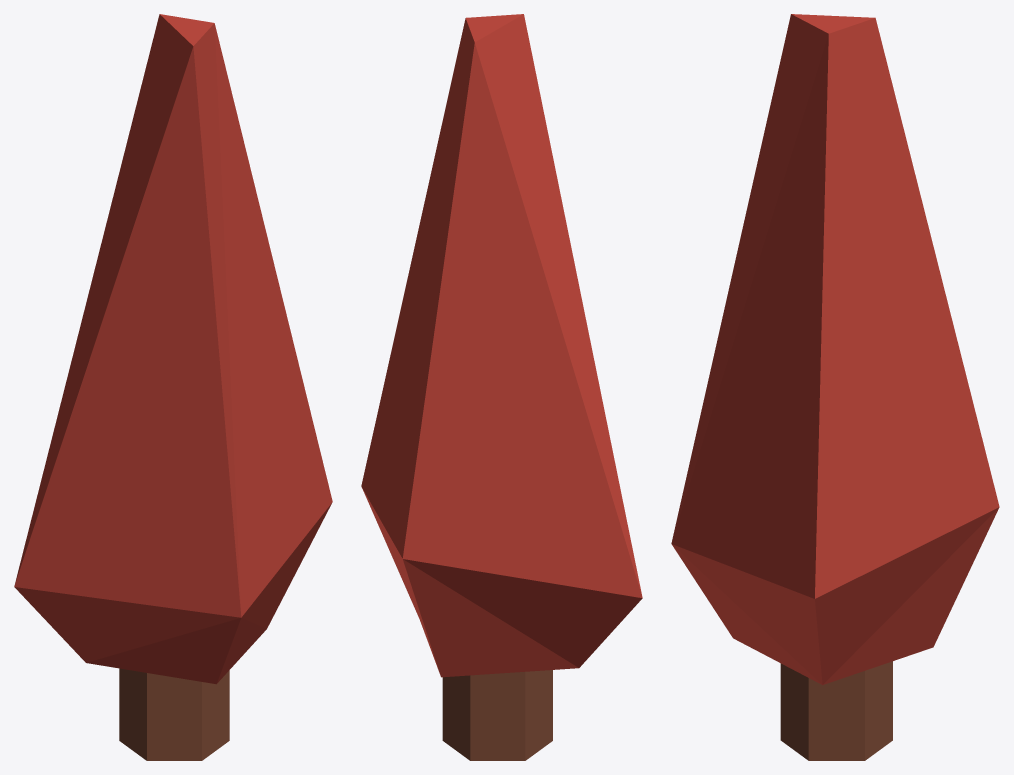
File: Bush_10_summer_red_mat.fbx
The picture shows the model from 3 angles, left to right: view 1: azimuth 30°, elevation 25°; view 2: azimuth 150°, elevation 25°; view 3: azimuth 270°, elevation 25°; orthographic projection.
Parts seen in each view (by area): view 1: Bush_10_summer_red_mat; view 2: Bush_10_summer_red_mat; view 3: Bush_10_summer_red_mat.
Part boxes in pixels (x1,y1,x2,y2): Bush_10_summer_red_mat: (14,14,332,760); Bush_10_summer_red_mat: (361,14,642,760); Bush_10_summer_red_mat: (671,14,999,760).
Size of the model in its own units: 38.13 by 86.43 by 35.48.
